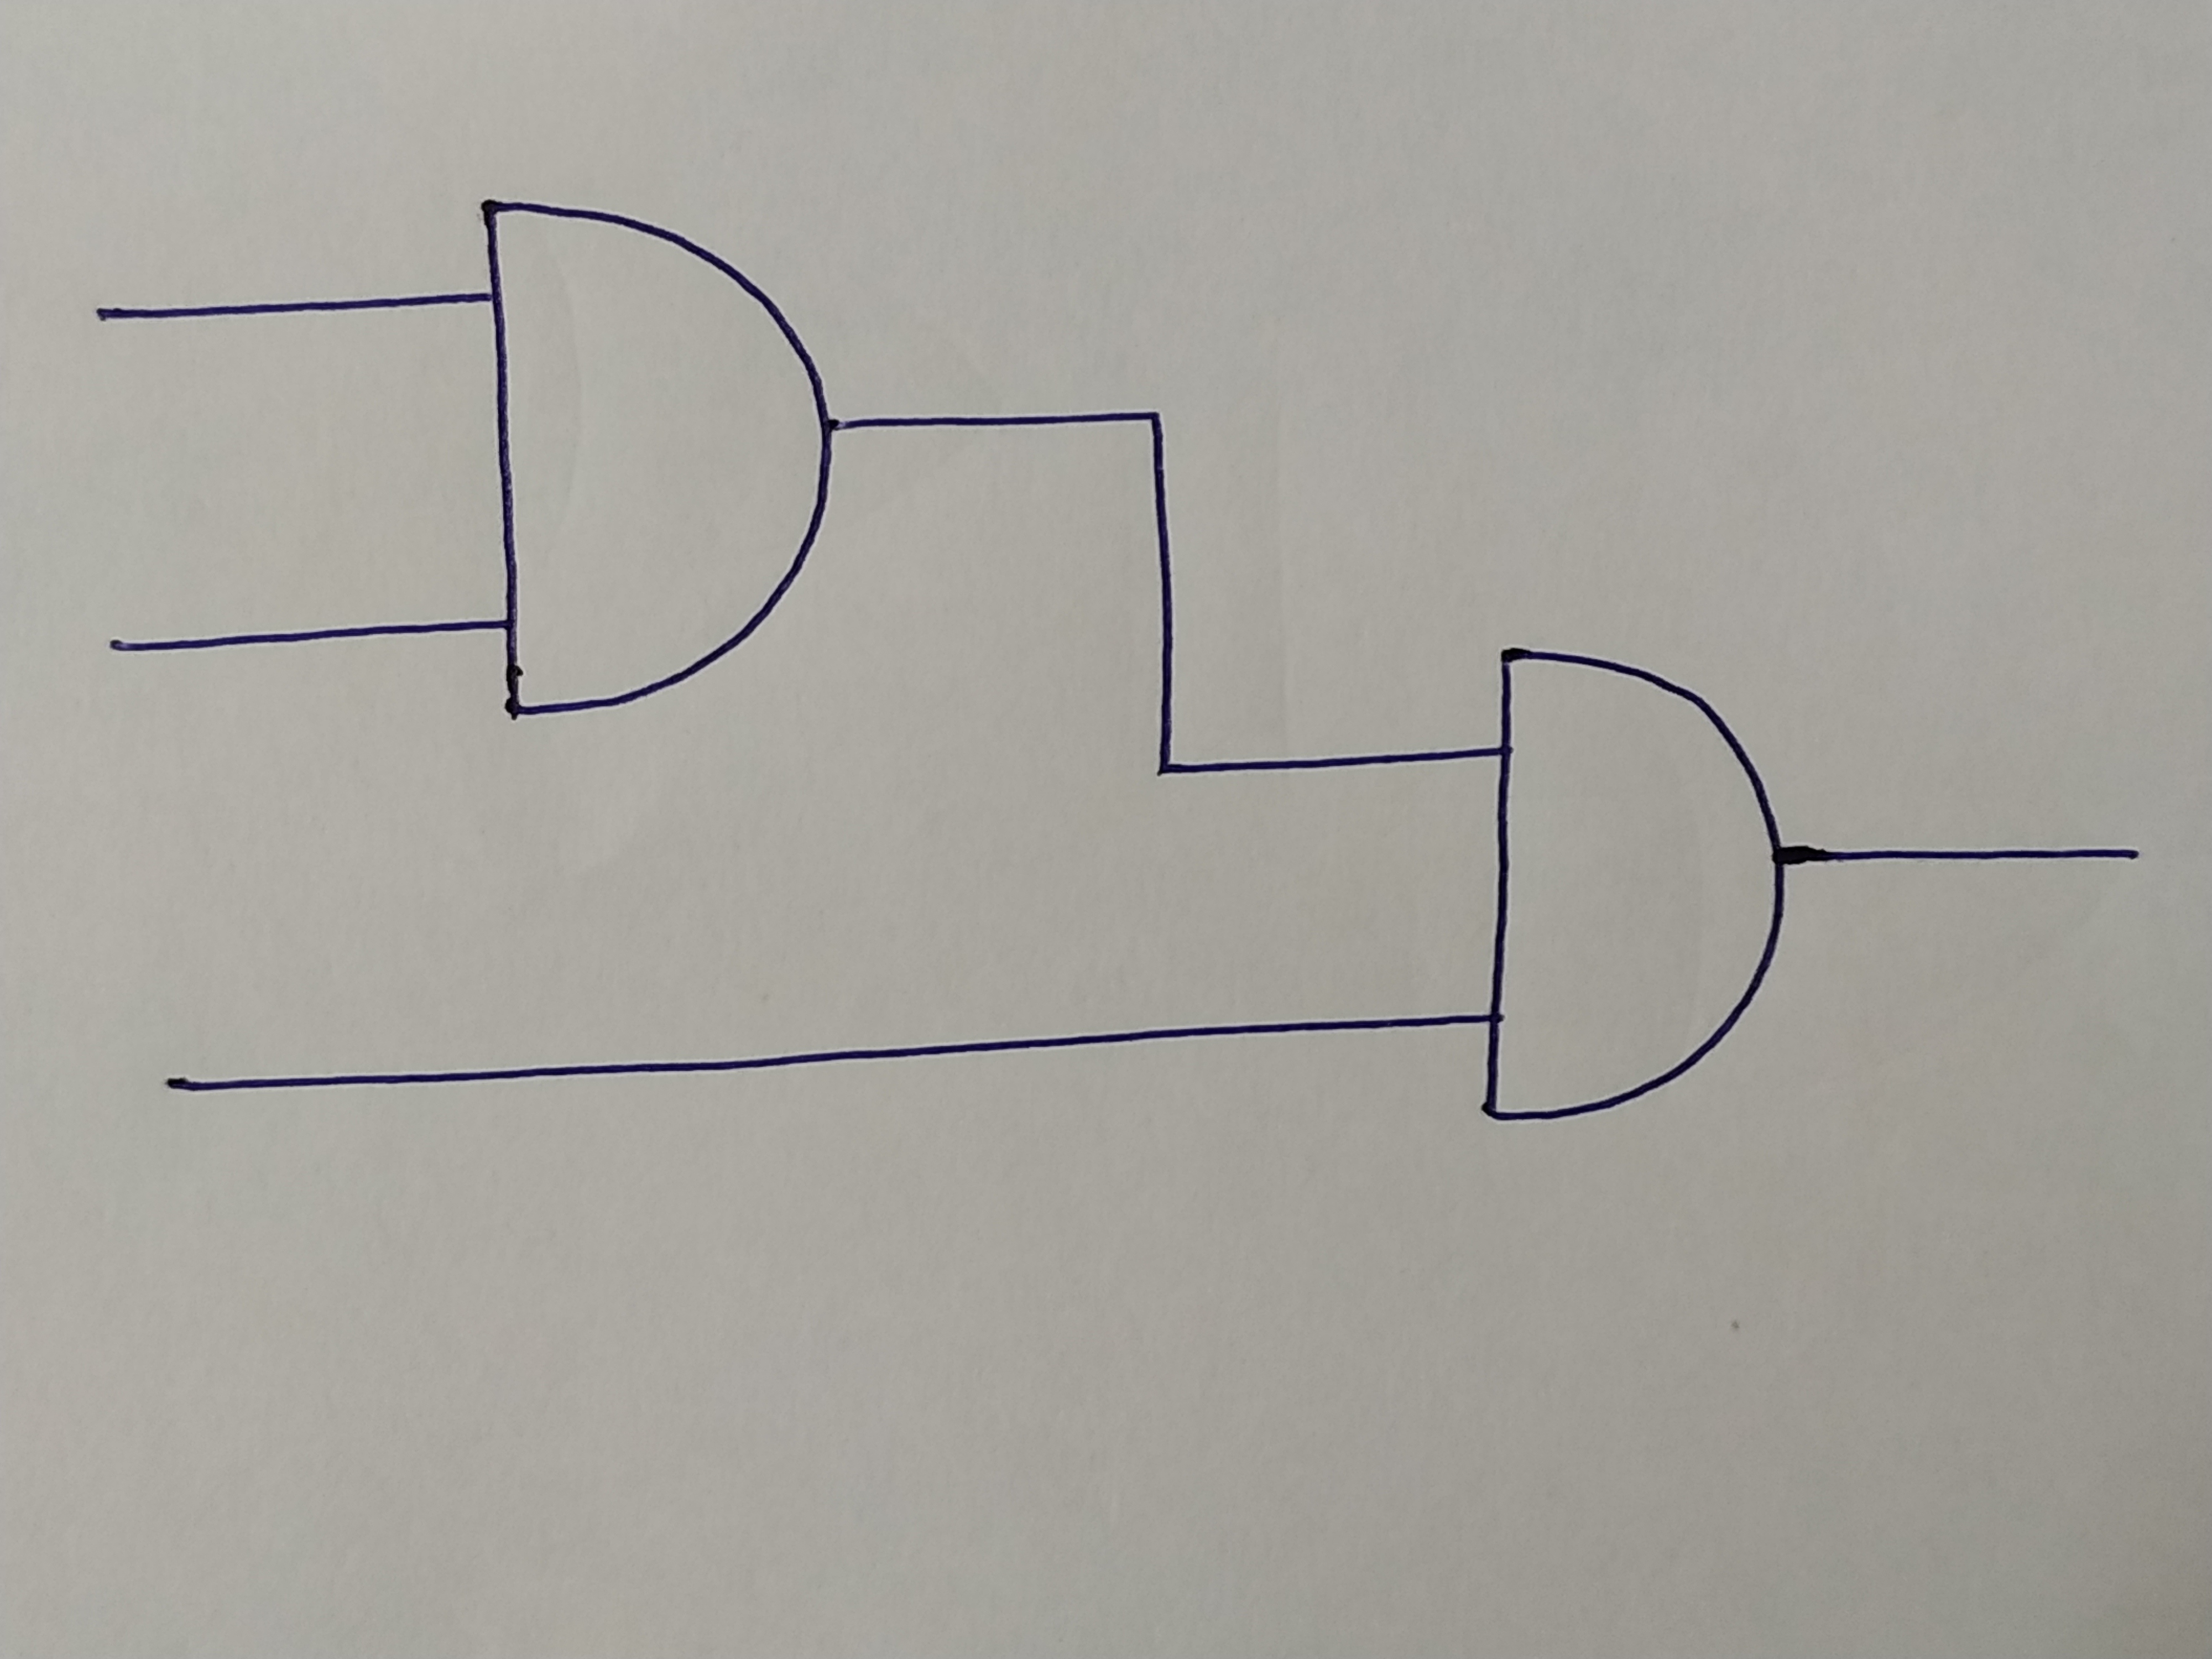and: (482, 197, 827, 720), (1489, 645, 1782, 1124)
